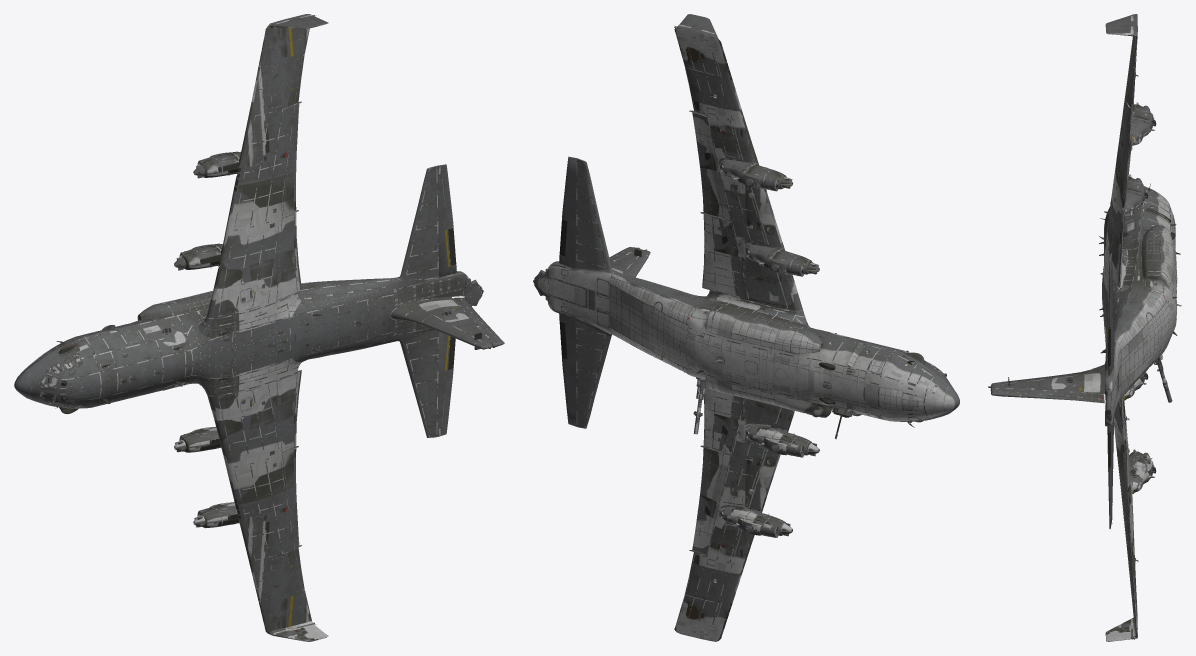
File: ac130-joshlasia.glb
The picture shows the model from 3 angles, left to right: view 1: azimuth 30°, elevation 25°; view 2: azimuth 150°, elevation 25°; view 3: azimuth 270°, elevation 25°; orthographic projection.
Parts seen in each view (by area): view 1: mesh (×7); view 2: mesh (×7); view 3: mesh (×8).
Boxes of the visible parts, x1,y1,x2,y2 form: mesh (×7): (14,14,504,641); mesh (×7): (533,14,959,641); mesh (×8): (988,14,1181,641).
Bounding box in the file's own units: 113 × 148 × 42.59.
Materials: 1 (1 with a texture image).
